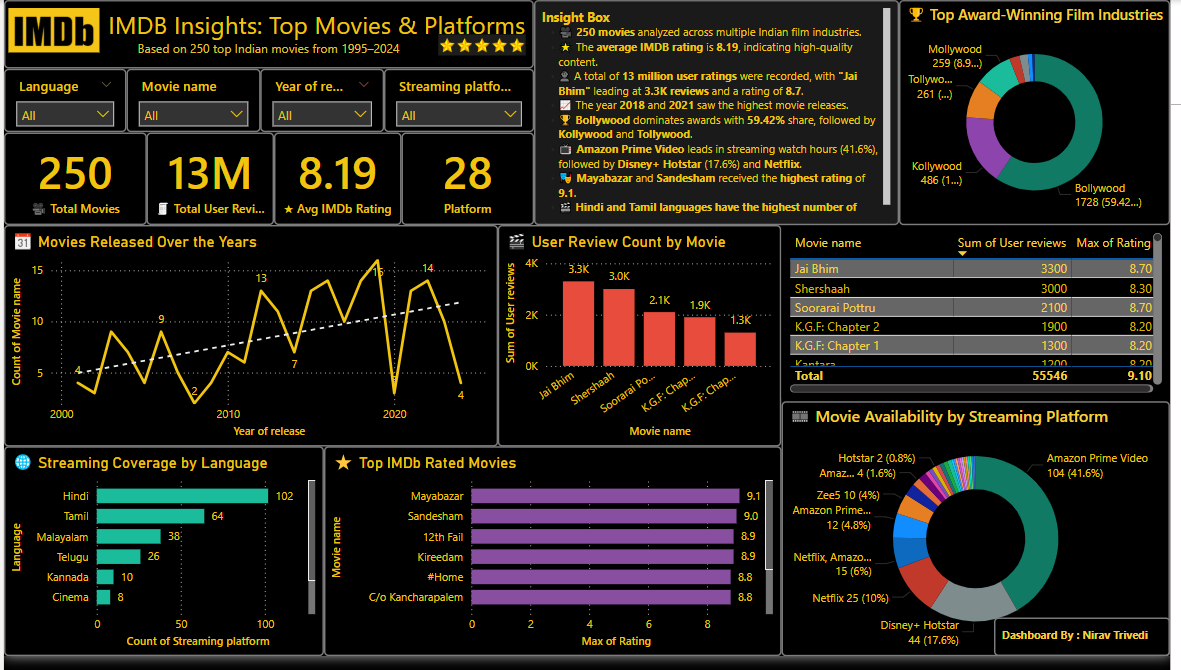

The page's visual inventory and layout, read from the dashboard file:
{"tool":"powerbi","page":{"name":"Page 1","canvas":[1280,720],"ordinal":0},"visuals":[{"type":"barChart","title":"🌐 Streaming Coverage by Language","fields":{"Category":["IMdB_India_Top250.Language "],"Y":["CountNonNull(IMdB_India_Top250.Streaming platform)"]},"box":[0,489.9,351.3,230.5],"z":0},{"type":"barChart","title":"⭐ Top IMDb Rated Movies","fields":{"Category":["IMdB_India_Top250.Movie name"],"Y":["Max(IMdB_India_Top250.Rating)"]},"box":[351.3,489.9,502.2,230.5],"z":1000},{"type":"columnChart","title":"🎬  User Review Count by Movie","fields":{"Category":["IMdB_India_Top250.Movie name"],"Y":["Sum(IMdB_India_Top250.User reviews)"]},"box":[542,247,311.5,242.9],"z":2000},{"type":"lineChart","title":"📆 Movies Released Over the Years","fields":{"Category":["IMdB_India_Top250.Year of release"],"Y":["CountNonNull(IMdB_India_Top250.Movie name)"]},"box":[0,247,542,242.9],"z":3000},{"type":"tableEx","fields":{"Values":["IMdB_India_Top250.Movie name","Sum(IMdB_India_Top250.User reviews)","Max(IMdB_India_Top250.Rating)"]},"box":[853.5,247,426.8,193.5],"z":4000},{"type":"donutChart","title":"🎞️ Movie Availability by Streaming Platform","fields":{"Category":["IMdB_India_Top250.Streaming platform"],"Y":["CountNonNull(IMdB_India_Top250.Movie name)"]},"box":[853.5,440.5,426.8,279.9],"z":5000},{"type":"donutChart","title":"🏆 Top Award-Winning Film Industries","fields":{"Category":["IMdB_India_Top250.Film Industry"],"Y":["Sum(IMdB_India_Top250.Awards Win)"]},"box":[982.5,0,297.8,247],"z":6000},{"type":"card","fields":{"Values":["CountNonNull(IMdB_India_Top250.Movie name)"]},"box":[0,145.5,156.4,101.5],"z":7000},{"type":"card","fields":{"Values":["Sum(IMdB_India_Top250.Ratedby)"]},"box":[156.4,145.5,140,101.5],"z":8000},{"type":"card","fields":{"Values":["Avg(IMdB_India_Top250.Rating)"]},"box":[296.4,145.5,140,101.5],"z":9000},{"type":"slicer","fields":{"Values":["IMdB_India_Top250.Year of release"]},"box":[281.3,75.5,135.8,70],"z":10000},{"type":"slicer","fields":{"Values":["IMdB_India_Top250.Movie name"]},"box":[134.5,75.5,146.8,70],"z":11000},{"type":"slicer","fields":{"Values":["IMdB_India_Top250.Language "]},"box":[0,75.5,134.5,70],"z":12000},{"type":"slicer","fields":{"Values":["IMdB_India_Top250.Streaming platform"]},"box":[417.2,75.5,164.7,70],"z":13000},{"type":"card","fields":{"Values":["Count(IMdB_India_Top250.Streaming platform)"]},"box":[436.4,145.5,145.5,101.5],"z":14000},{"type":"textbox","box":[0,0,581.8,75.5],"z":15000},{"type":"textbox","box":[581.8,0,400.7,247],"z":16000},{"type":"image","box":[0,0,109.8,65.9],"z":17000},{"type":"image","box":[467.9,32.9,113.9,32.9],"z":18000},{"type":"textbox","box":[1086.8,677.9,193.5,42.5],"z":19000}]}

Visuals, with their boxes in screenshot pixels (x1, y1, x2, y2), scaled from the page's 1280x720 canvas onto the 1181x670 screenshot:
"🌐 Streaming Coverage by Language" barChart: <box>0,456,324,669</box>
"⭐ Top IMDb Rated Movies" barChart: <box>324,456,787,669</box>
"🎬  User Review Count by Movie" columnChart: <box>500,230,787,456</box>
"📆 Movies Released Over the Years" lineChart: <box>0,230,500,456</box>
tableEx - IMdB_India_Top250.Movie name x Sum(IMdB_India_Top250.User reviews): <box>787,230,1180,410</box>
"🎞️ Movie Availability by Streaming Platform" donutChart: <box>787,410,1180,669</box>
"🏆 Top Award-Winning Film Industries" donutChart: <box>907,0,1180,230</box>
card - CountNonNull(IMdB_India_Top250.Movie name): <box>0,135,144,230</box>
card - Sum(IMdB_India_Top250.Ratedby): <box>144,135,273,230</box>
card - Avg(IMdB_India_Top250.Rating): <box>273,135,403,230</box>
slicer - IMdB_India_Top250.Year of release: <box>260,70,385,135</box>
slicer - IMdB_India_Top250.Movie name: <box>124,70,260,135</box>
slicer - IMdB_India_Top250.Language : <box>0,70,124,135</box>
slicer - IMdB_India_Top250.Streaming platform: <box>385,70,537,135</box>
card - Count(IMdB_India_Top250.Streaming platform): <box>403,135,537,230</box>
textbox: <box>0,0,537,70</box>
textbox: <box>537,0,907,230</box>
image: <box>0,0,101,61</box>
image: <box>432,31,537,61</box>
textbox: <box>1003,631,1180,669</box>
